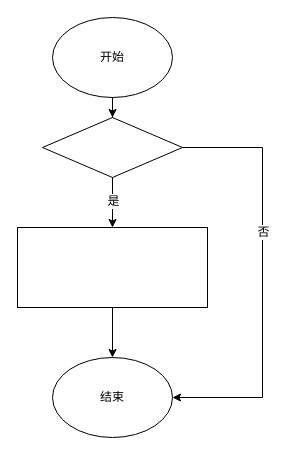
The diagram is 288 pixels wide and 455 high, and some of its shapes have lost their labels. Here are the shapes that lost their labels. From the top down, the centre of each, then its label:
point (112, 147): 指针是否为空指针
point (112, 267): 1.创建全局列表的新节点； 2.填充节点信息； 3.把新的节点加入到全局列中； 4.获取本地实时时间 5.打印信息
